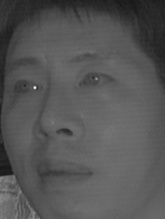eye: (78, 67, 116, 91), (9, 75, 45, 98)
mouth: (31, 157, 95, 193)
